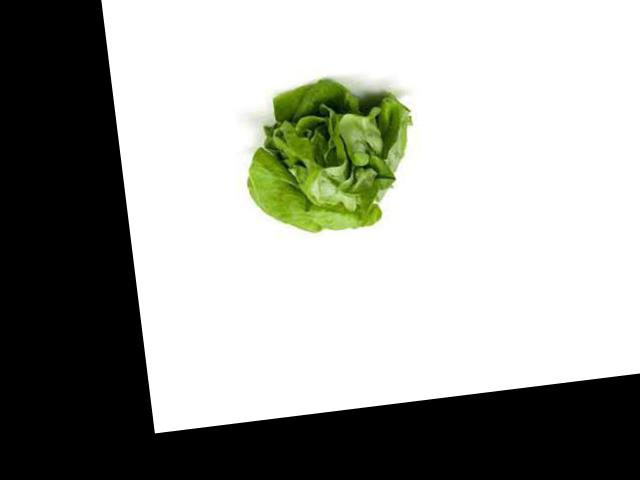lettuce: (287, 55, 447, 224)
